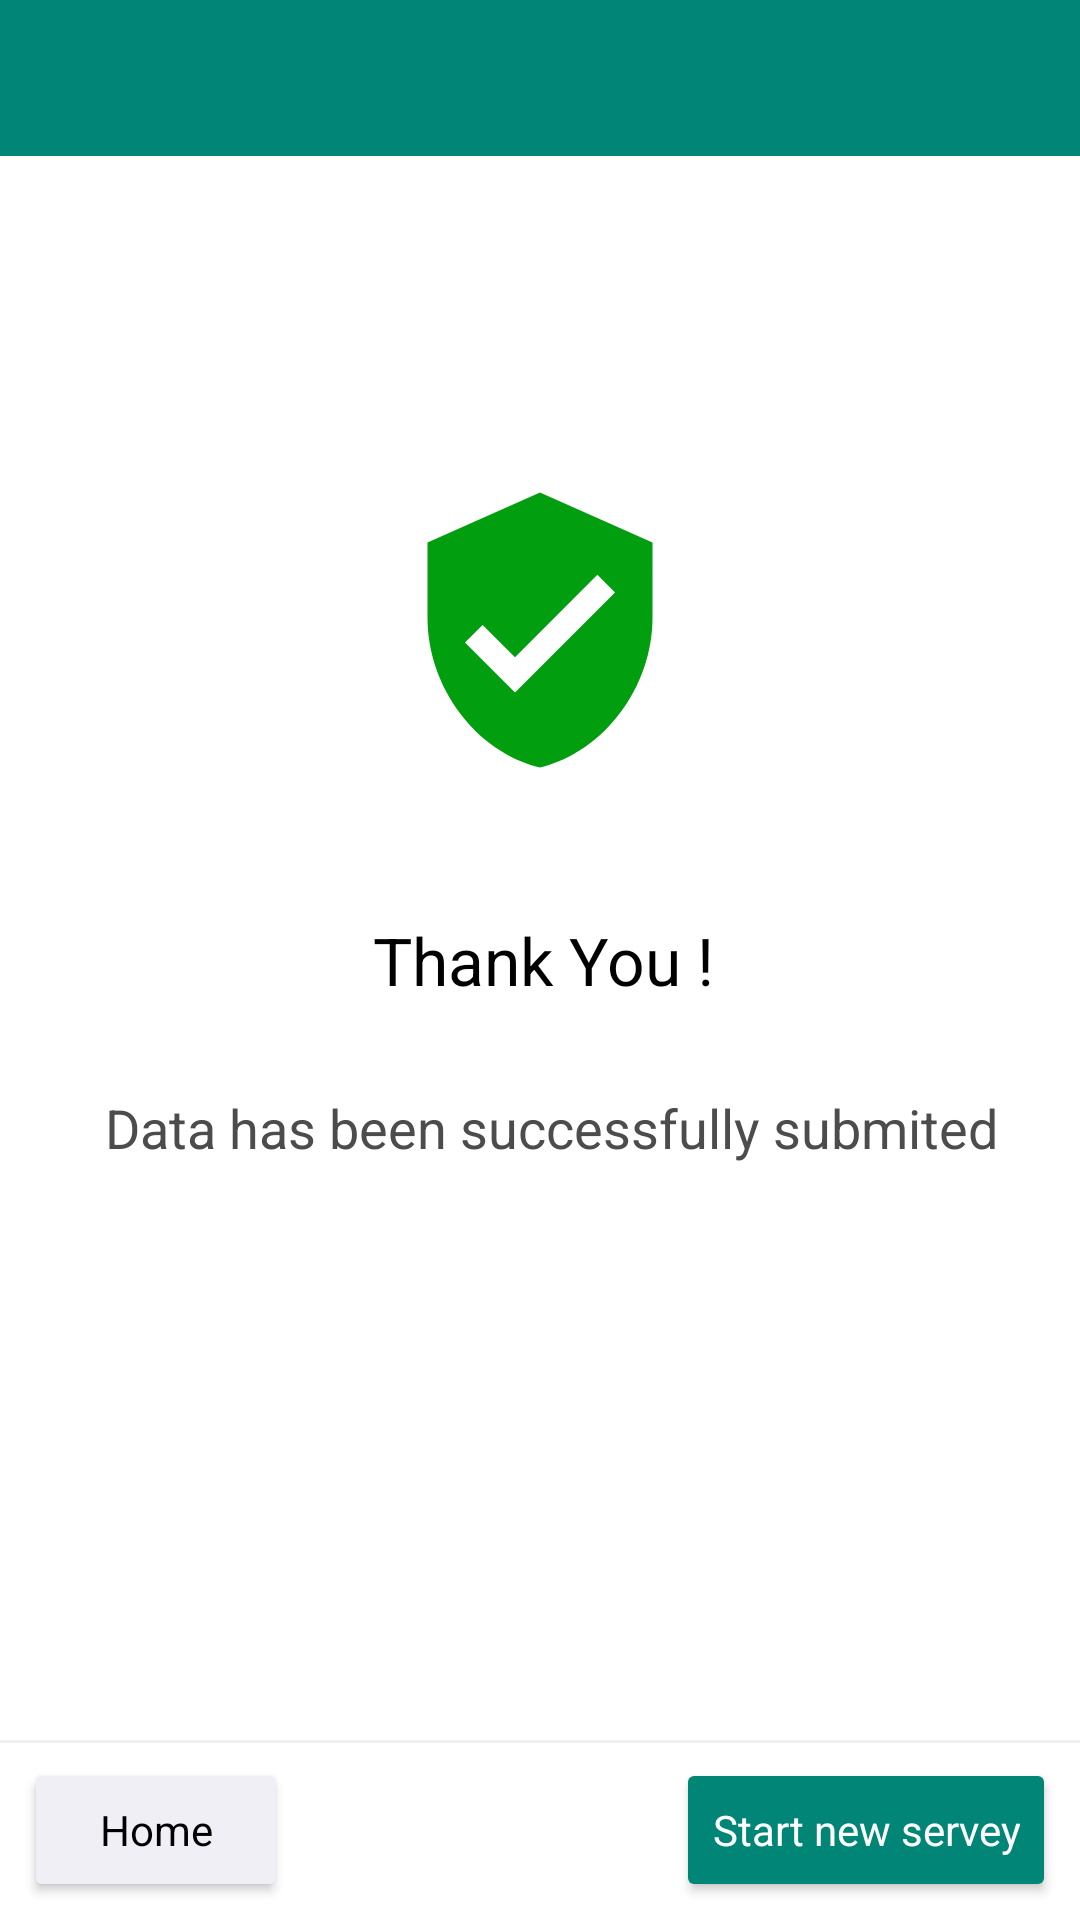

Screen size 1080x1920. Icon name, then its center in pixels as point (x, y):
verified: point (540, 630)
